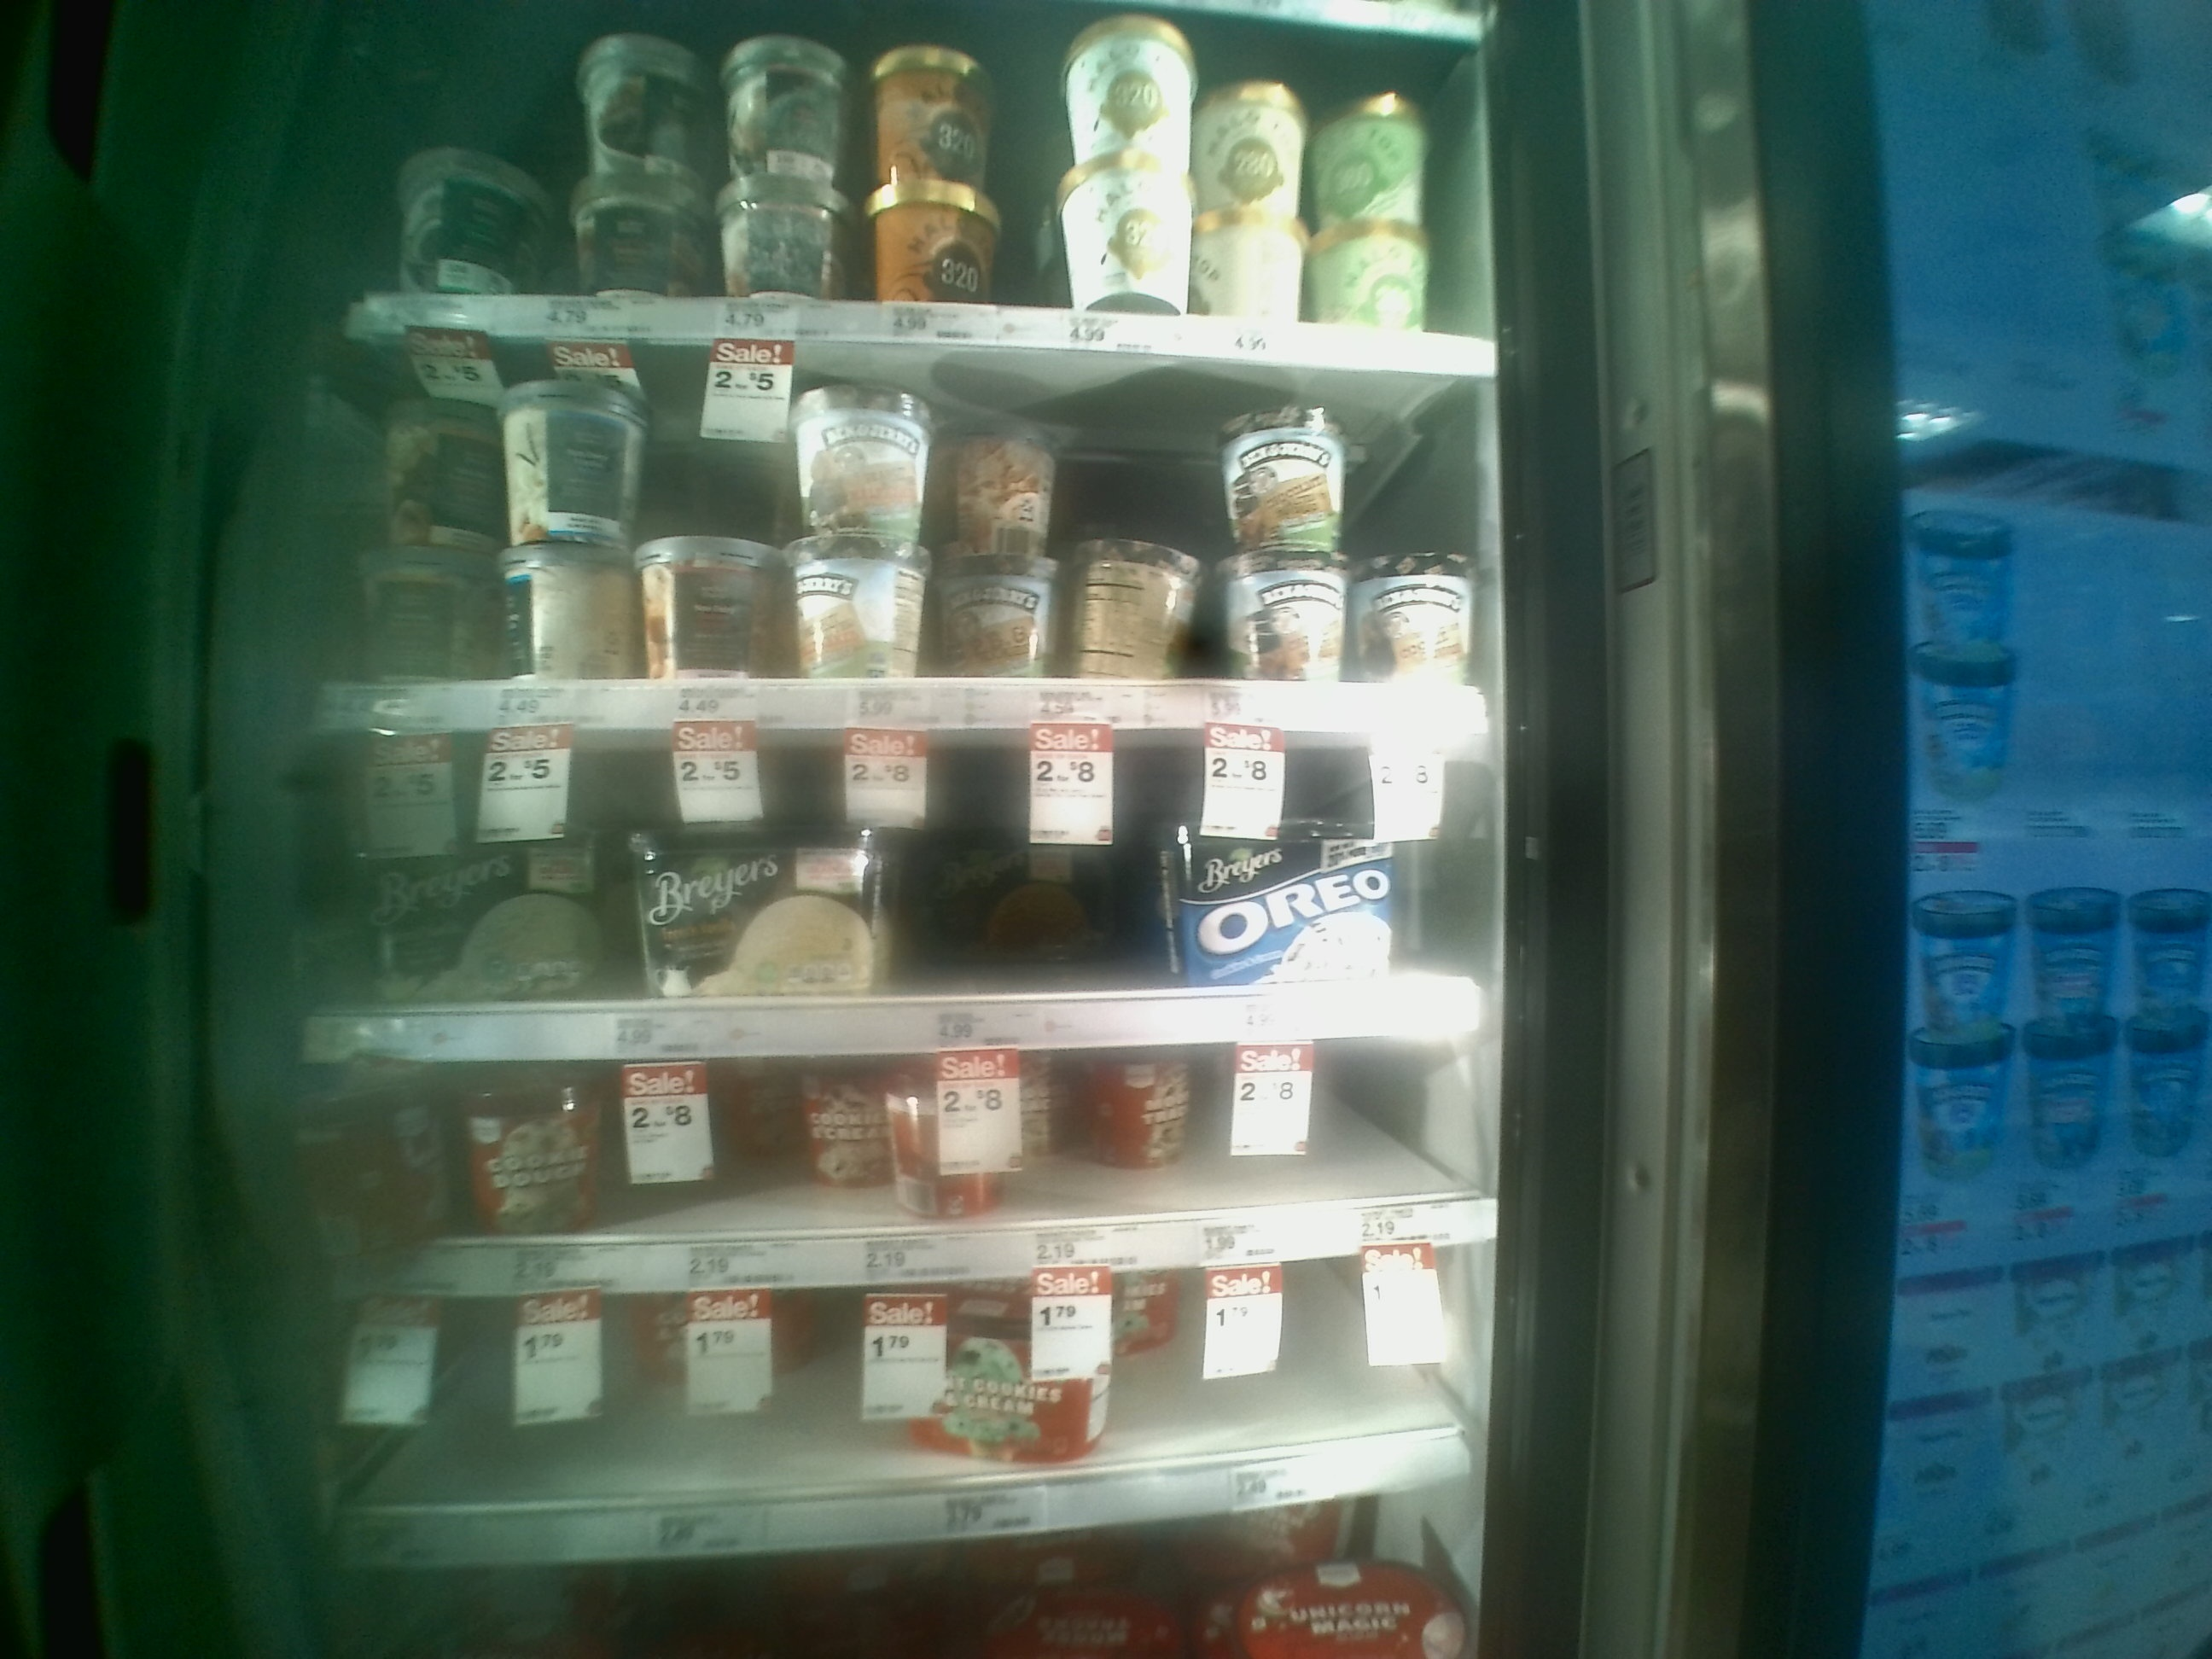ice-cream-shelf: (319, 728, 1501, 1049)
